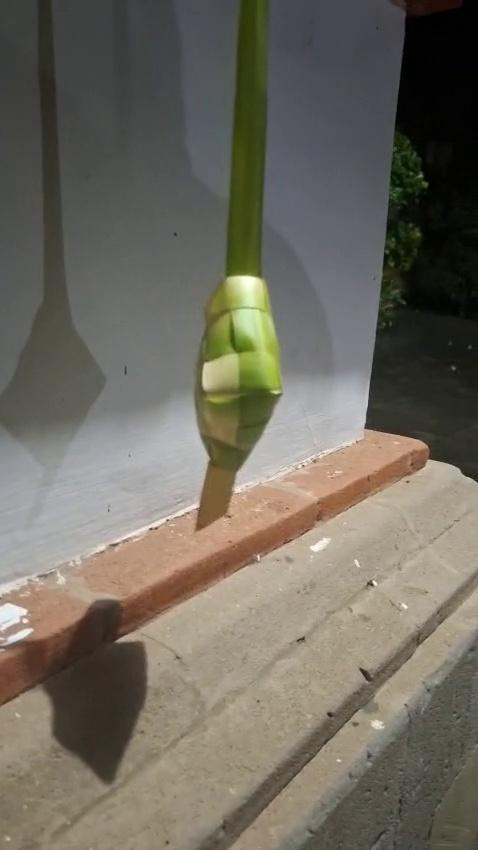Tipat Nasi: (188, 263, 288, 520)
